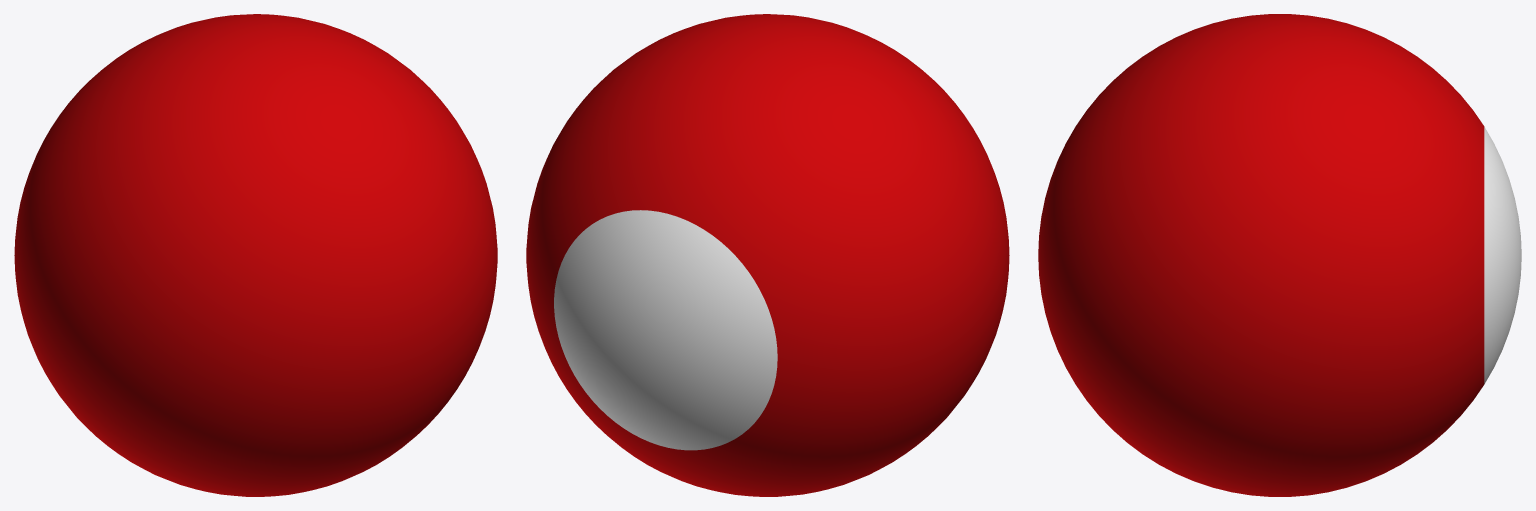
Rendered from 3Ball.dae.
3 views of the same model, side by side, from view 1: azimuth 30°, elevation 25°; view 2: azimuth 150°, elevation 25°; view 3: azimuth 270°, elevation 25° (orthographic).
Bounding box in the file's own units: 0.0571 × 0.0572 × 0.0571.
